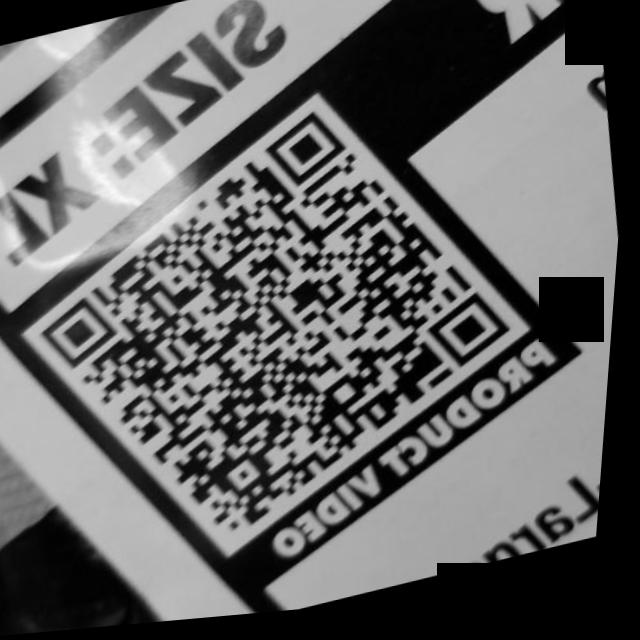QR_CODE: (0, 54, 572, 595)
